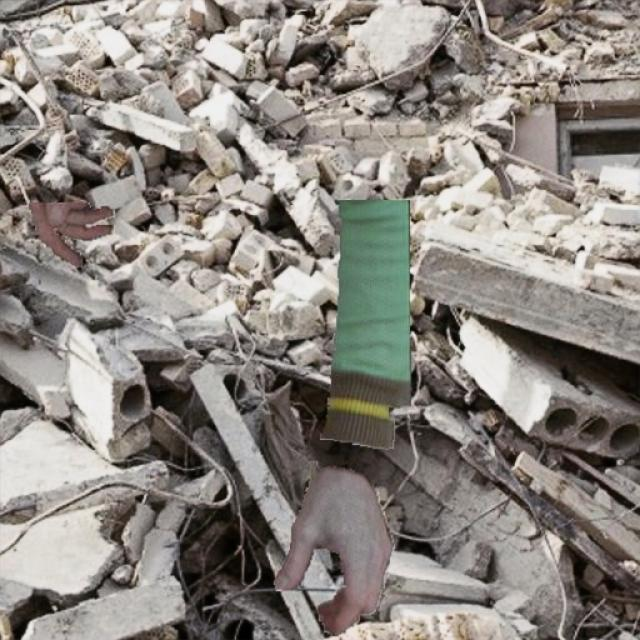Person in Rubble: (29, 200, 410, 635)
